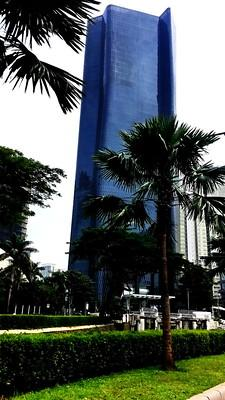building: (62, 5, 186, 325)
